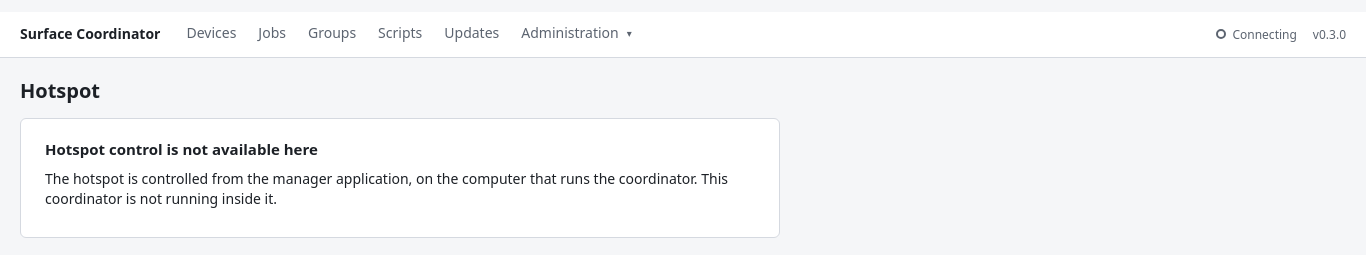
Scenario: Hotspot navigation › has none otherwise, and the page says it is not available
Check: the heading "Hotspot control is not available here" is shown, box [45, 139, 318, 159]
What coordinates should you click on to do the following:
click the button "Administration ▾"
I would click on:
 (577, 34)
Its box is [511, 12, 642, 57].
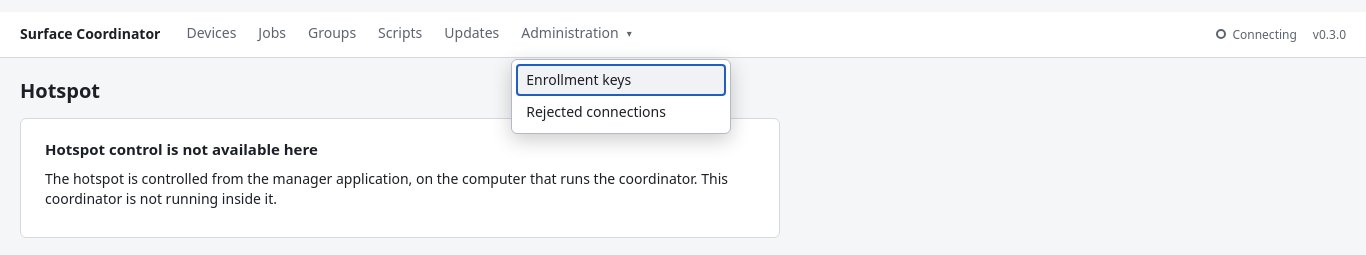
Check: the menu item "Enrollment keys" is shown, box [516, 64, 726, 96]
